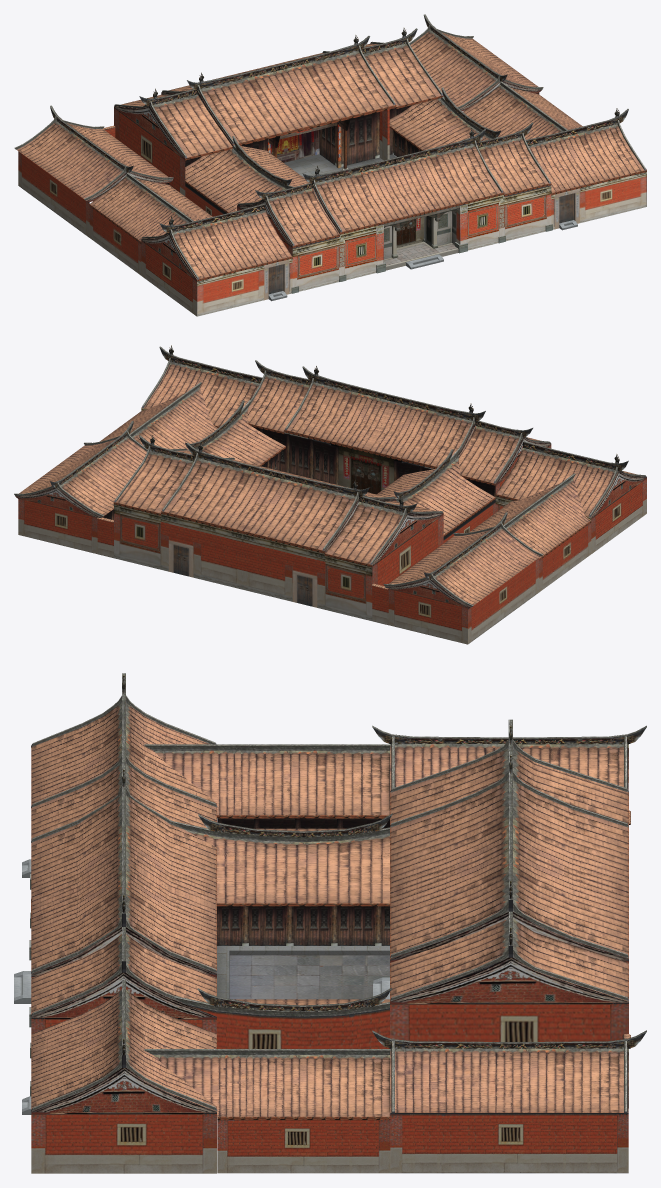
File: caiqianguminju.FBX
3 views of the same model, one above another, from view 1: azimuth 30°, elevation 25°; view 2: azimuth 150°, elevation 25°; view 3: azimuth 270°, elevation 25° (orthographic). The views are drawn at different scales.
Parts seen in each view (by area): view 1: caishiguminju; view 2: caishiguminju; view 3: caishiguminju.
Boxes of the visible parts, <box> form: caishiguminju: <box>14,14,646,316</box>; caishiguminju: <box>14,345,646,644</box>; caishiguminju: <box>14,673,646,1173</box>.
Bounding box in the file's own units: 3738 × 815 × 2619.
Materials: 1 (1 with a texture image).
